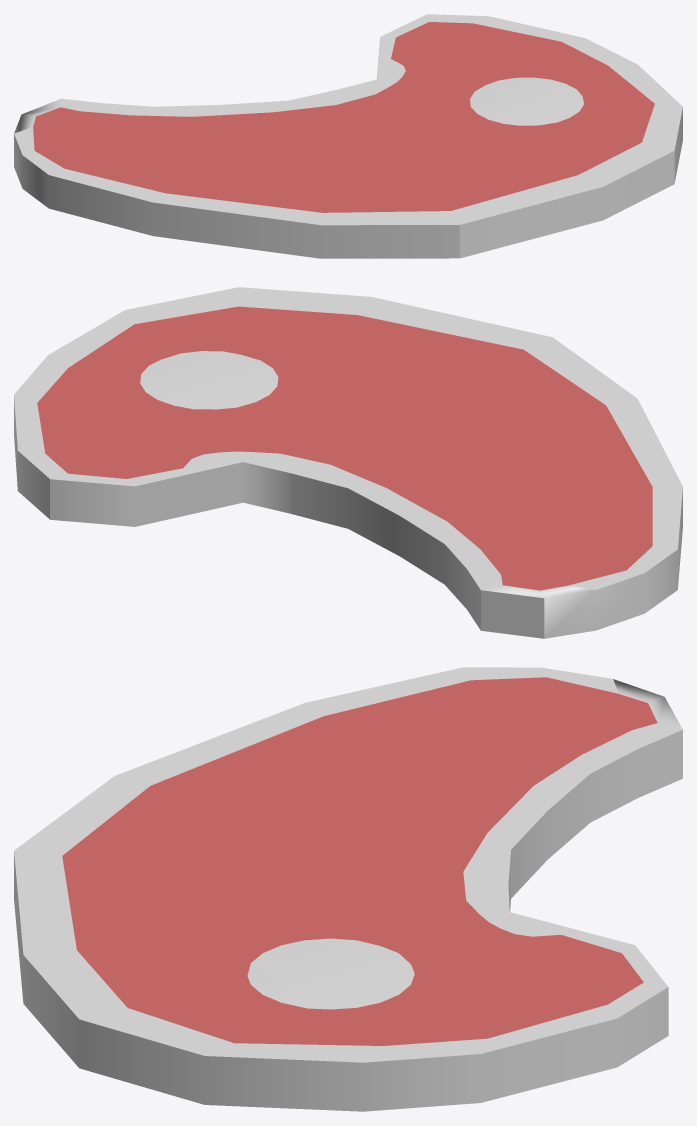
File: entre_cote.fbx
The picture shows the model from 3 angles, top to bottom: view 1: azimuth 30°, elevation 25°; view 2: azimuth 150°, elevation 25°; view 3: azimuth 270°, elevation 25°; orthographic projection. The views are drawn at different scales.
Parts seen in each view (by area): view 1: polySurface5; view 2: polySurface5; view 3: polySurface5.
Part boxes in pixels (bbox=[...]): polySurface5: bbox=[14, 14, 682, 258]; polySurface5: bbox=[14, 287, 682, 638]; polySurface5: bbox=[14, 667, 682, 1111].
Size of the model in its own units: 0.5682 by 0.0379 by 0.4062.
